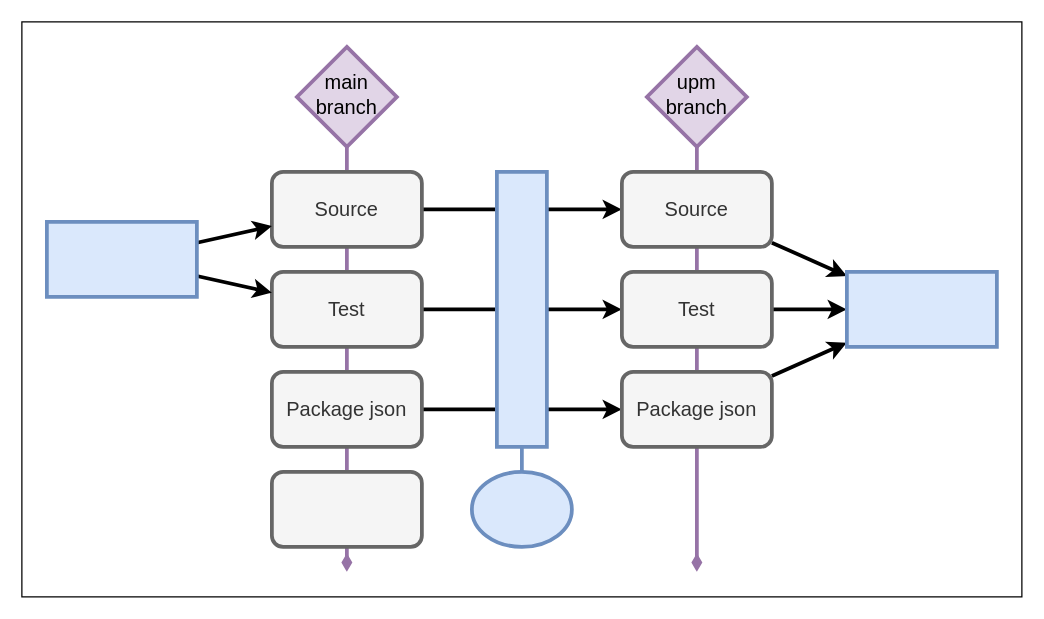
This 1044x619 diagram has some shape labels left out. The shapes that lost their labels are listed below. From the top down, each one's centre as x and y in pixels, then its label:
At point 121,258: "Source and Test Development".
At point 521,308: "Github Action".
At point 921,308: "Import package in Unity".
At point 346,508: "CS Proj".
At point 521,508: "Push on main".
